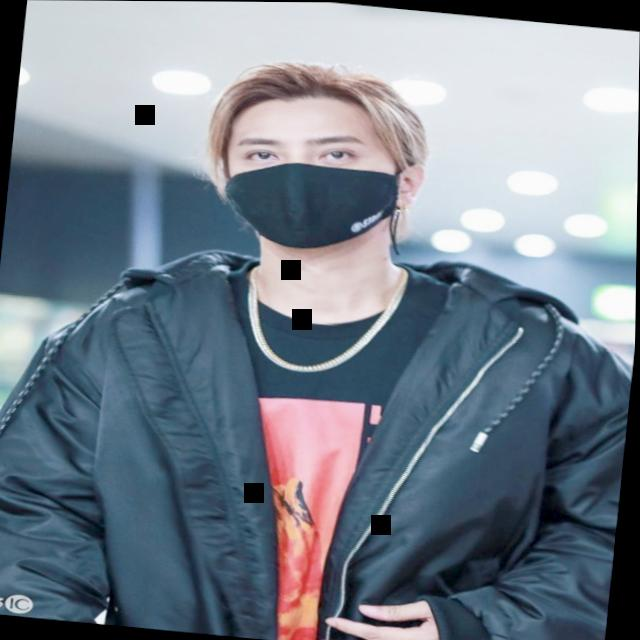Mask: (182, 44, 446, 267)
